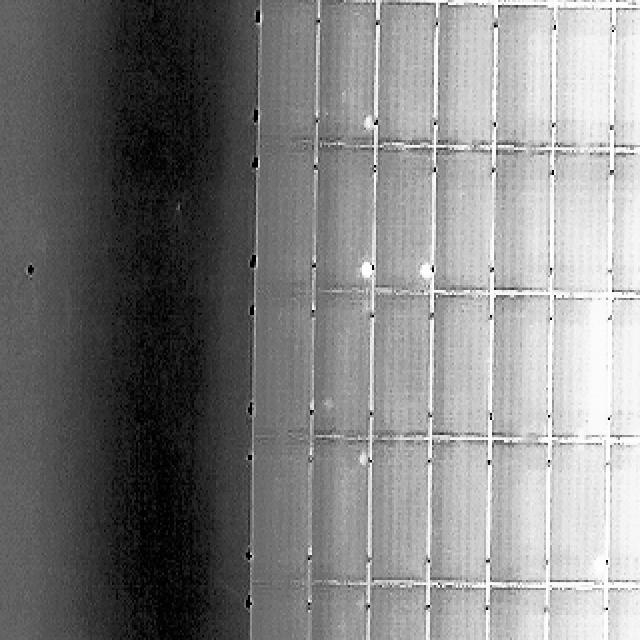Hotspots: (354, 259, 375, 284), (586, 552, 606, 577), (360, 112, 377, 139), (416, 262, 434, 286)
PV-modules: (372, 294, 436, 442), (375, 146, 437, 294), (430, 148, 492, 294), (319, 145, 380, 293), (546, 440, 608, 585), (256, 0, 318, 145), (432, 5, 494, 150), (428, 295, 490, 440), (308, 294, 369, 441), (378, 3, 439, 149), (252, 294, 313, 440), (256, 145, 316, 293), (307, 438, 368, 583), (314, 1, 374, 147), (492, 439, 552, 585), (550, 150, 610, 296), (251, 437, 311, 583), (428, 438, 488, 584), (498, 6, 558, 151), (370, 439, 430, 584), (495, 296, 555, 440), (496, 150, 556, 294), (553, 7, 612, 152), (549, 297, 608, 441), (610, 440, 640, 585), (612, 150, 640, 295), (612, 298, 640, 440), (614, 8, 640, 152), (252, 584, 313, 640), (368, 585, 430, 640), (309, 586, 371, 640), (427, 587, 490, 640), (488, 588, 548, 640), (546, 588, 606, 640), (606, 587, 640, 640), (554, 0, 614, 5), (618, 0, 640, 8), (498, 0, 560, 2)
